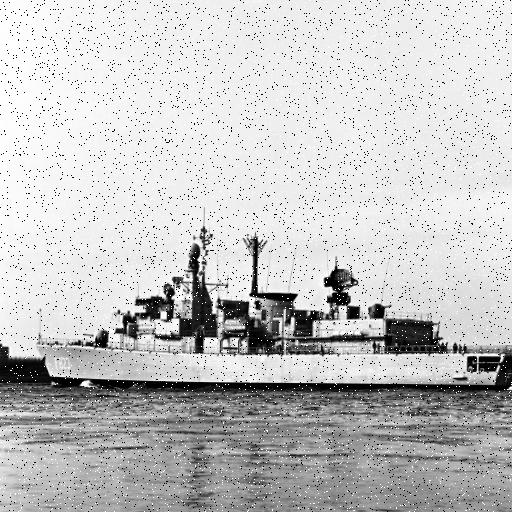Fragata: (32, 213, 512, 398)
